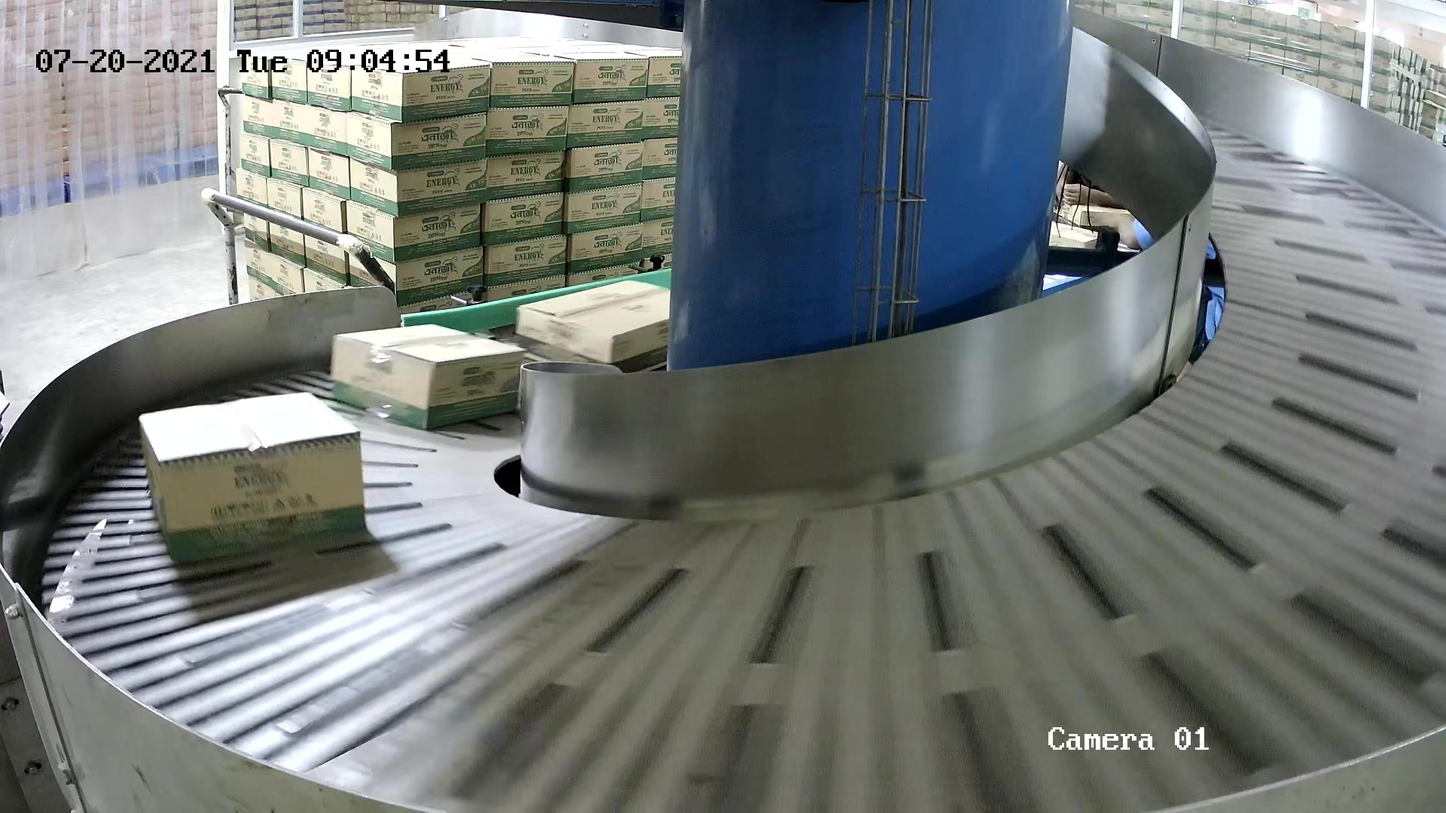Box: (139, 391, 369, 567), (331, 322, 526, 432), (516, 278, 695, 383)
